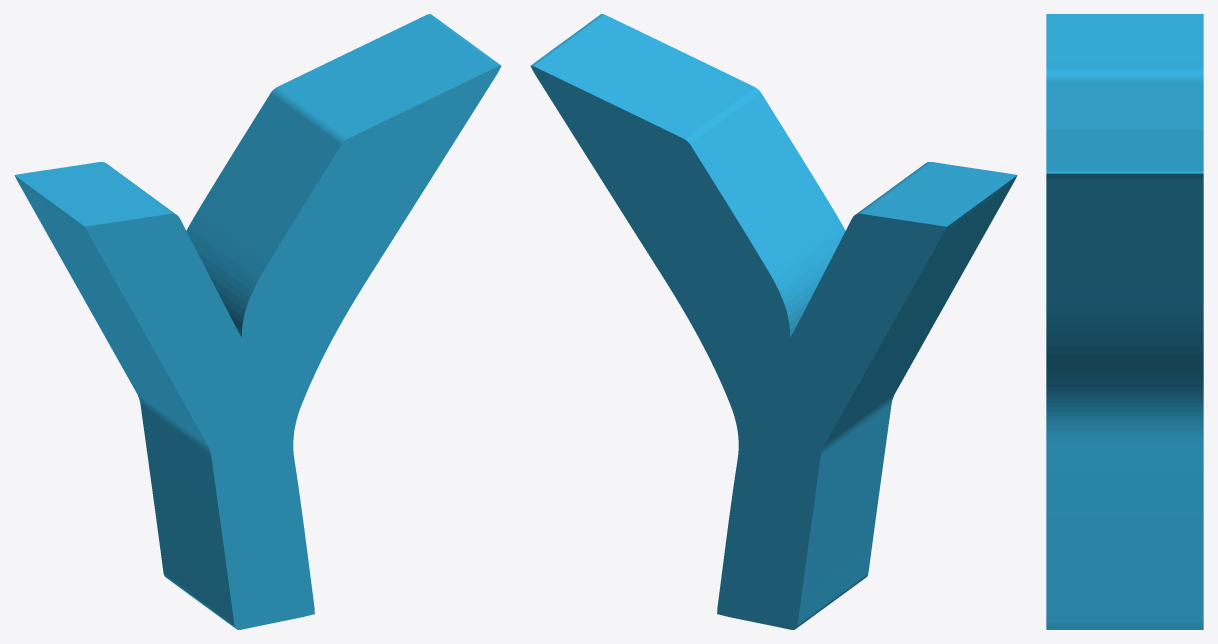
Rendered from LETTERY.gltf.
The picture shows the model from 3 angles, left to right: view 1: azimuth 30°, elevation 25°; view 2: azimuth 150°, elevation 25°; view 3: azimuth 270°, elevation 25°; orthographic projection. The views are drawn at different scales.
Parts seen in each view (by area): view 1: Curve.019; view 2: Curve.019; view 3: Curve.019.
Part boxes in pixels (x1,y1,x2,y2): Curve.019: (14, 14, 501, 629); Curve.019: (530, 14, 1017, 629); Curve.019: (1046, 14, 1203, 629).
Size of the model in its own units: 0.1085 by 0.1253 by 0.032.
